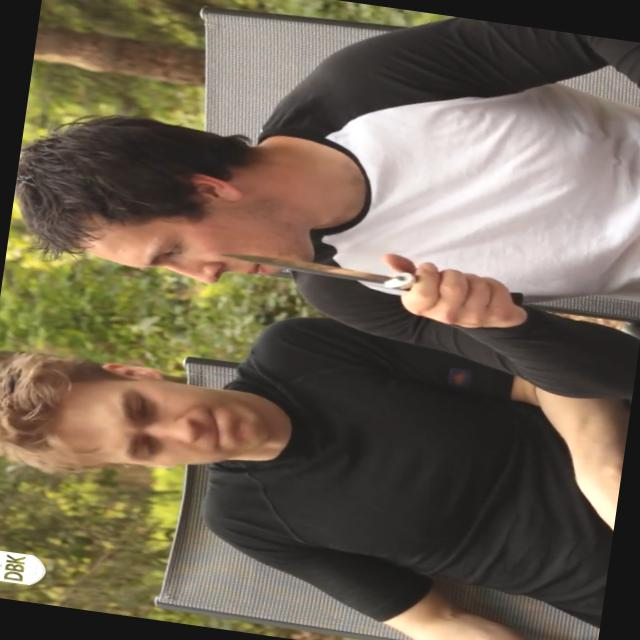knife: (206, 224, 520, 323)
